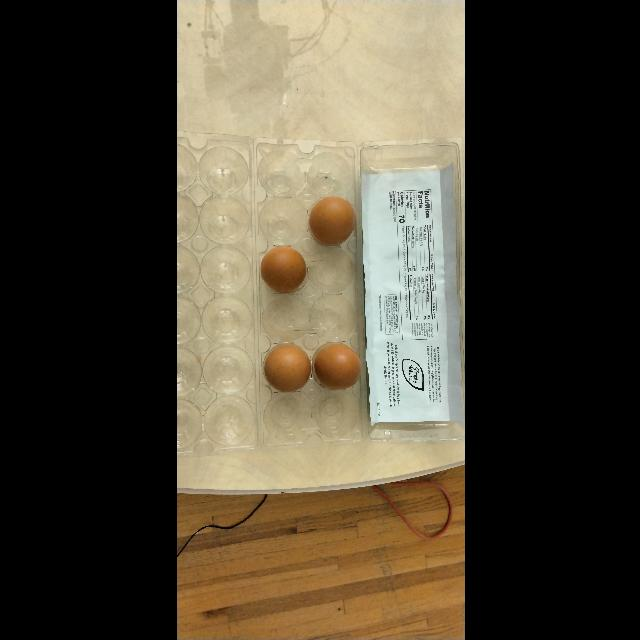Egg: (257, 339, 315, 395), (307, 340, 363, 394), (306, 194, 358, 250), (256, 246, 308, 298)
